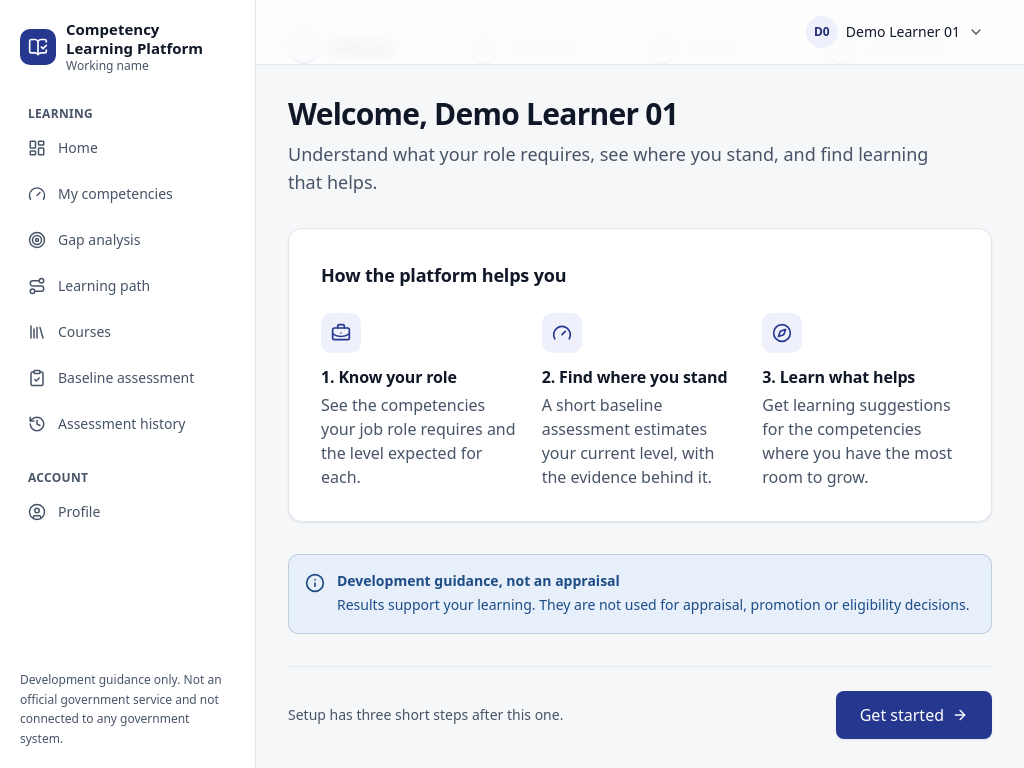
Test: onboarding › walks a new learner through welcome, notice, job role and assessment with focus on each step
This screenshot has width=1024, height=768.
(page scrolled)
Expected: the heading "How the platform helps you" is shown, [321, 263, 566, 287]
Click the button "Get started": coordinates (914, 715) [836, 691, 992, 739]
(page scrolled)
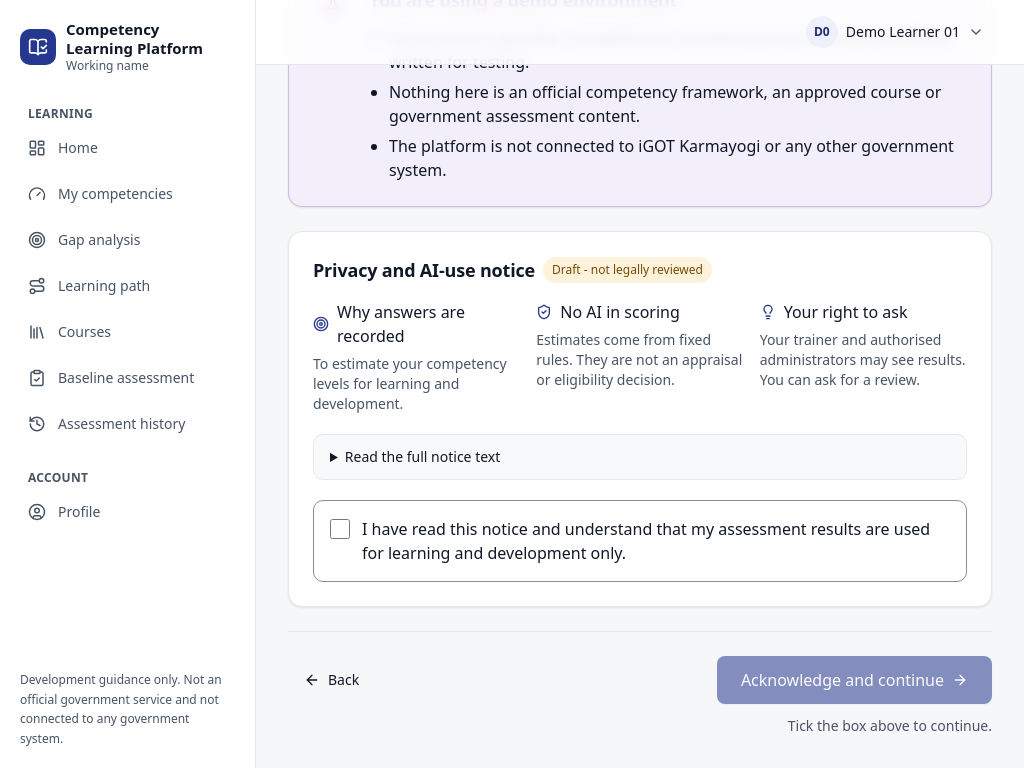
Expected: the list item "not connected to iGOT Karmayogi" is shown, [389, 135, 954, 181]
Expected: the button "Acknowledge and continue" is disabled, [717, 656, 992, 704]
Click the checkbox named "used for learning and development only": coordinates (340, 529) [330, 519, 350, 539]
(page scrolled)
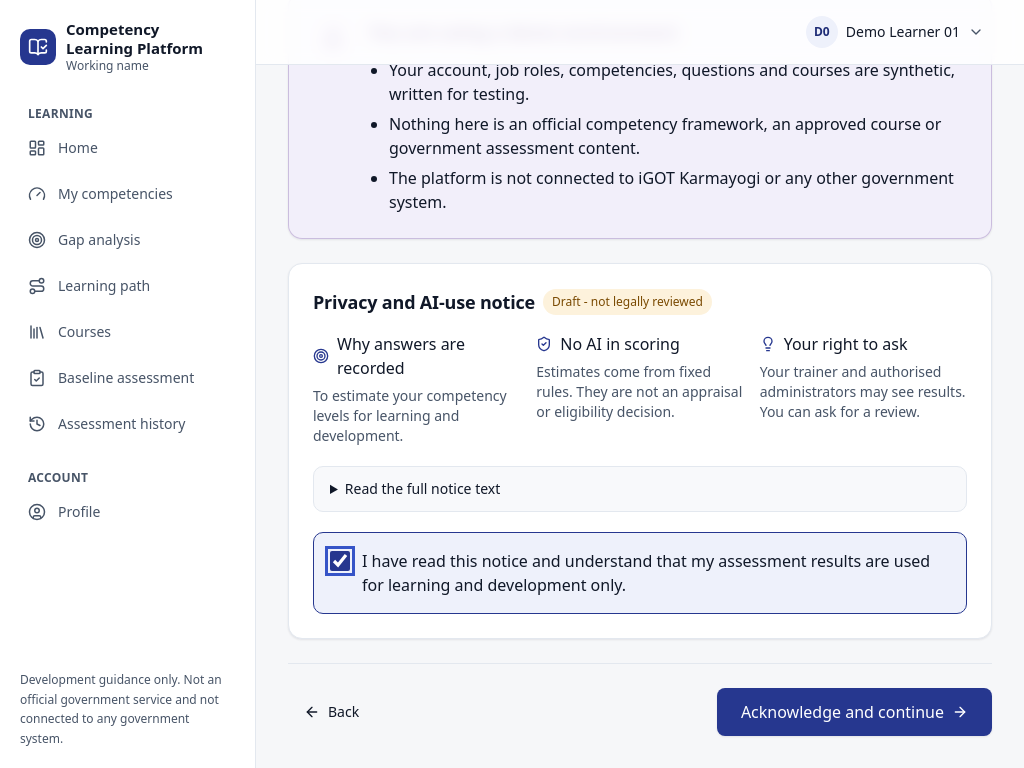
Click the button "Acknowledge and continue": coordinates (854, 712) [717, 688, 992, 736]
(page scrolled)
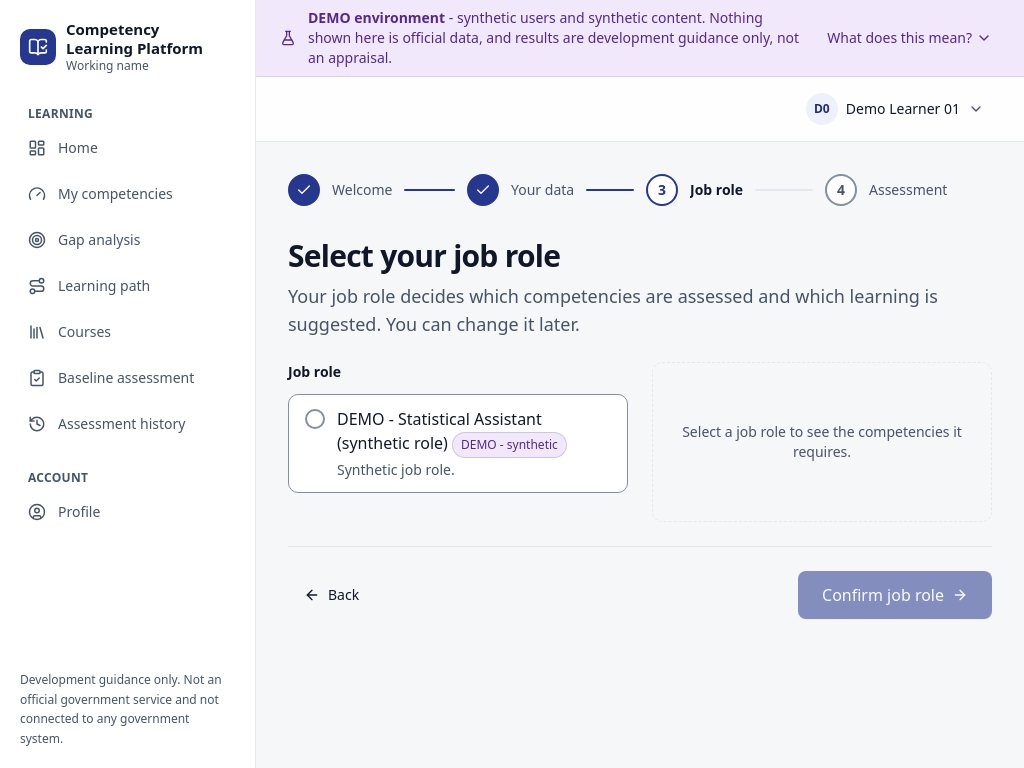
Expected: the heading "Select your job role" is shown, [288, 235, 560, 276]
Click the radio button labelled "DEMO - Statistical Assistant": coordinates (315, 419) [305, 409, 325, 429]
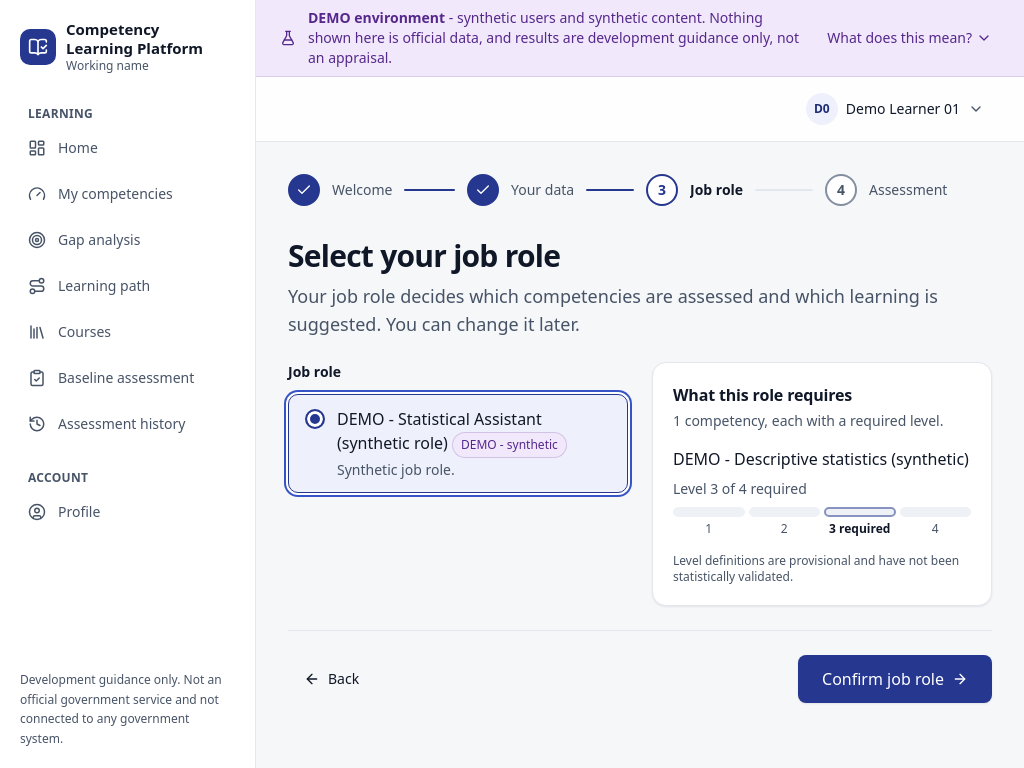
Expected: the text "Level 3 of 4 required" is shown, [673, 479, 807, 499]
Expected: the picture named "required level 3" is shown, [673, 507, 971, 537]
Click the button "Confirm job role": coordinates (895, 679) [798, 655, 992, 703]
(page scrolled)
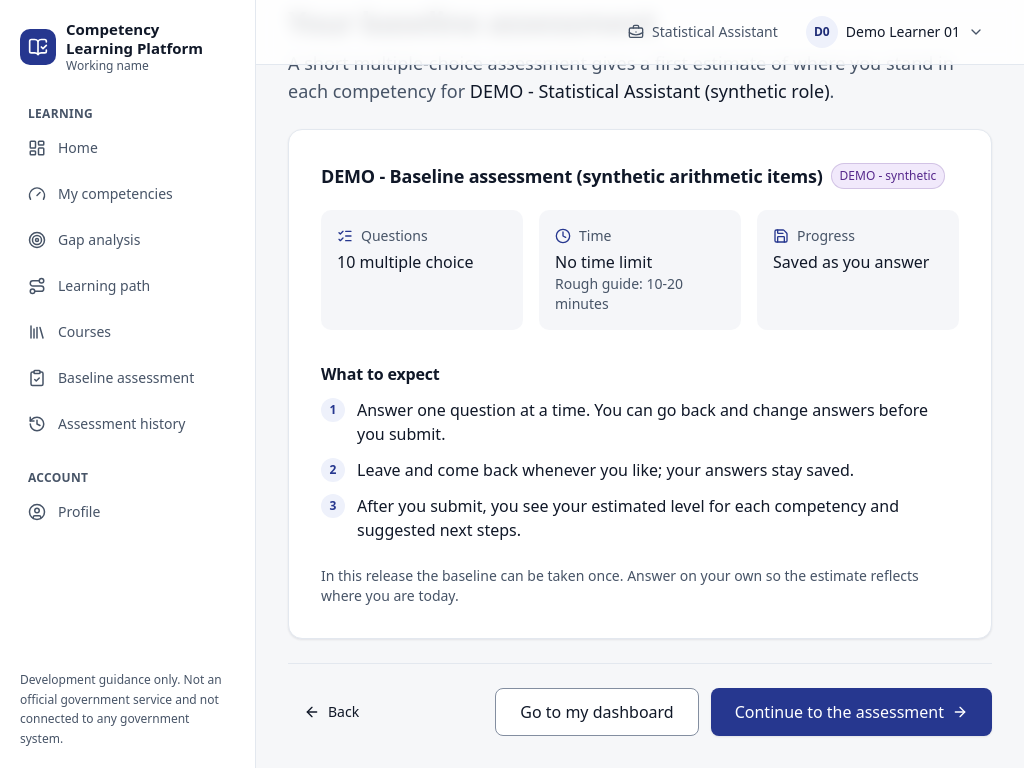
Expected: the heading "Your baseline assessment" is shown, [288, 2, 656, 43]
Expected: the text "10 multiple choice" is shown, [337, 251, 474, 273]
Expected: the text "No time limit Rough guide: 10-20 minutes" is shown, [555, 251, 683, 313]
